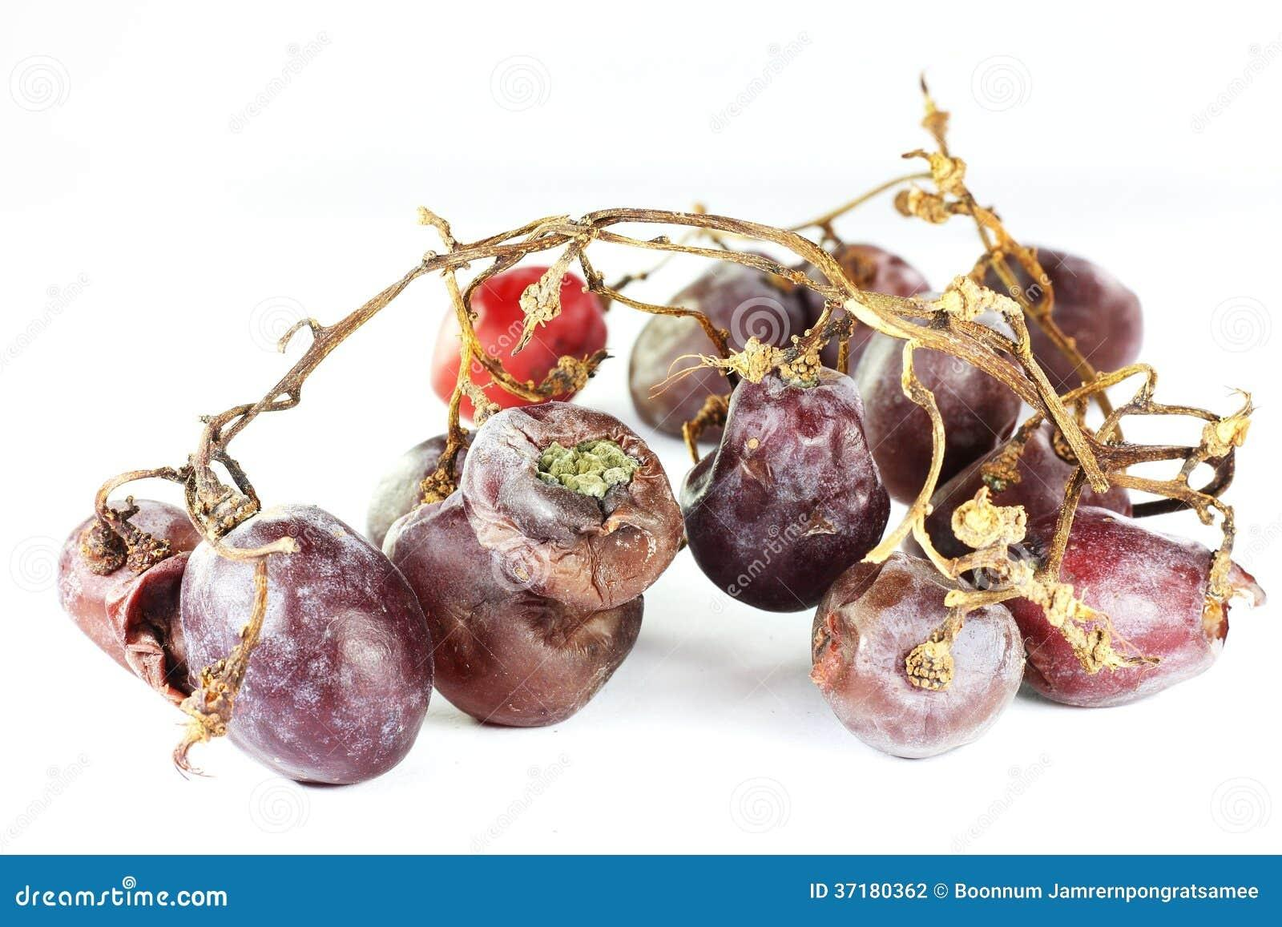Grape Rotten: (56, 77, 1264, 786), (58, 201, 1263, 784)
